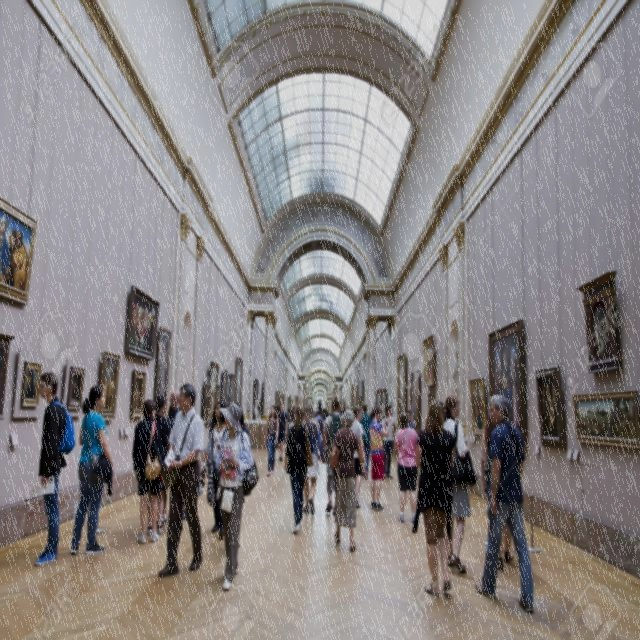pessoa: (472, 390, 536, 616), (156, 380, 207, 578), (212, 400, 260, 592), (413, 396, 458, 599), (33, 369, 76, 566), (69, 384, 115, 558), (442, 393, 478, 574), (330, 408, 368, 551), (481, 410, 514, 571), (132, 396, 165, 544), (282, 404, 314, 534), (200, 401, 230, 538), (146, 393, 170, 537), (574, 392, 640, 442), (298, 402, 326, 514), (366, 403, 394, 512), (394, 412, 418, 524), (322, 397, 344, 516), (0, 212, 31, 296), (493, 351, 521, 434), (349, 404, 366, 509), (590, 302, 614, 364), (128, 300, 156, 353), (536, 383, 560, 437), (263, 404, 280, 477), (98, 355, 119, 413), (382, 404, 398, 480), (358, 402, 372, 480), (228, 399, 252, 444), (275, 401, 289, 462), (451, 350, 463, 420), (468, 388, 486, 432), (158, 336, 170, 398), (167, 388, 181, 434), (22, 366, 38, 404), (314, 404, 330, 434), (70, 374, 84, 404), (402, 408, 416, 433), (133, 377, 143, 410), (286, 404, 297, 424)
